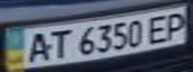0: (124, 17, 148, 47)
3: (93, 21, 115, 54)
5: (109, 19, 133, 52)
6: (75, 24, 96, 56)
A: (21, 29, 54, 63)
E: (142, 11, 175, 44)
P: (160, 9, 190, 42)
T: (45, 27, 72, 60)
